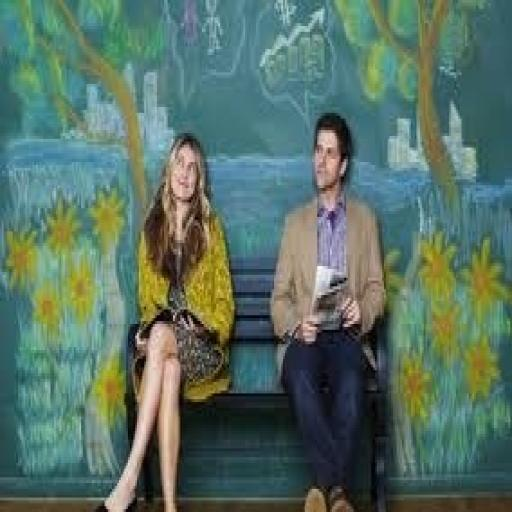sitting: (94, 107, 389, 506), (94, 130, 236, 509), (268, 110, 388, 509)
